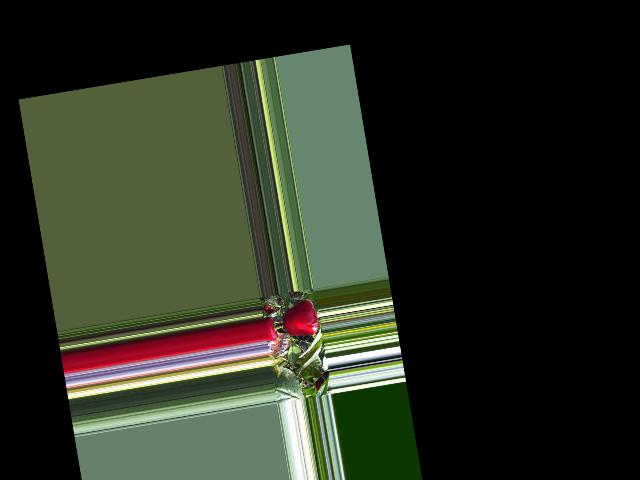bell_pepper: (261, 314, 281, 344)
